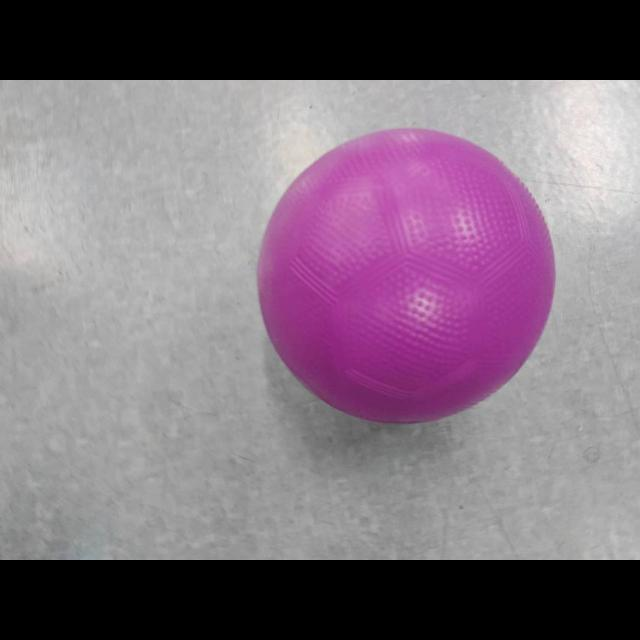P: (250, 125, 560, 429)
